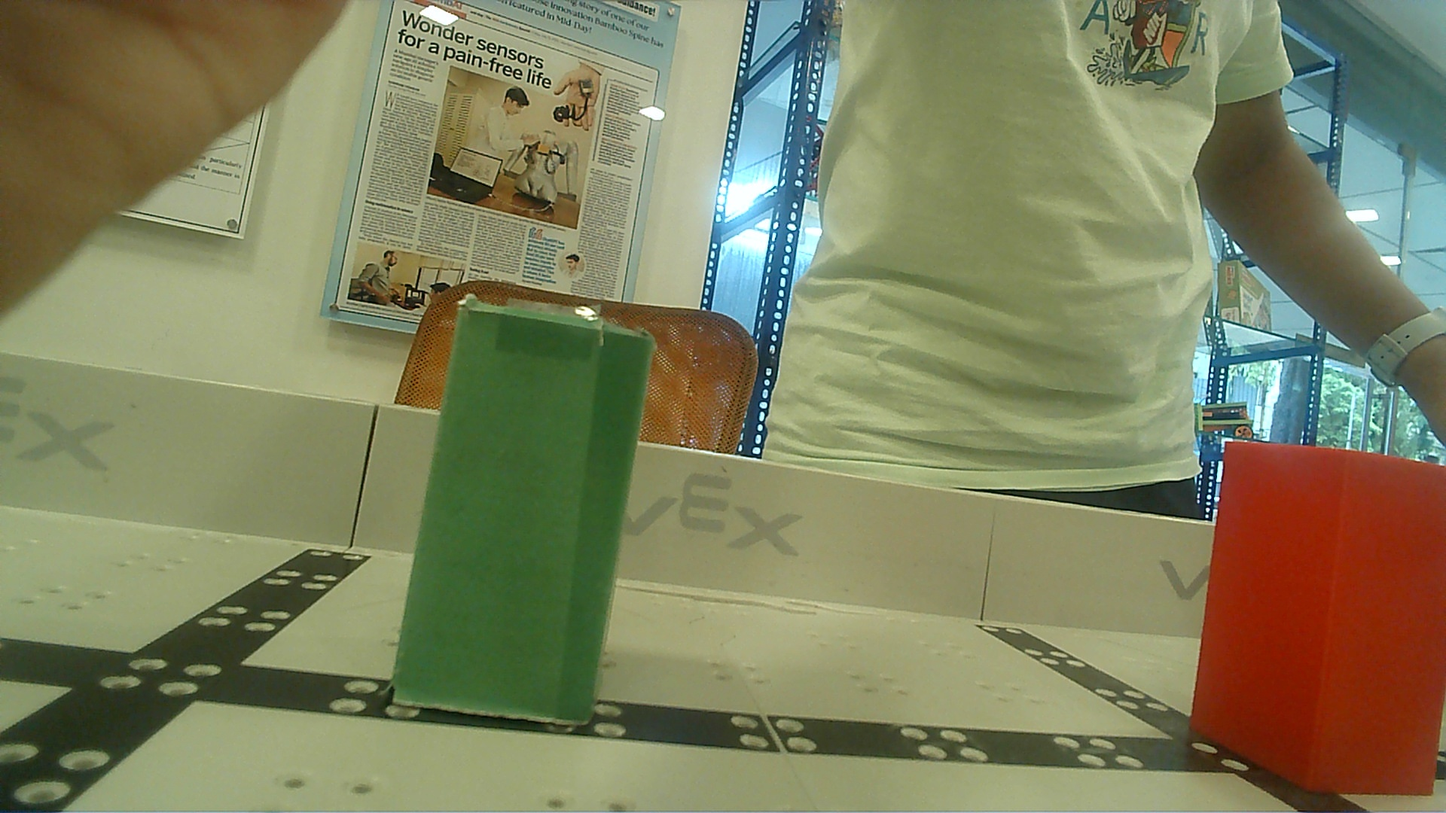green: (386, 297, 658, 732)
